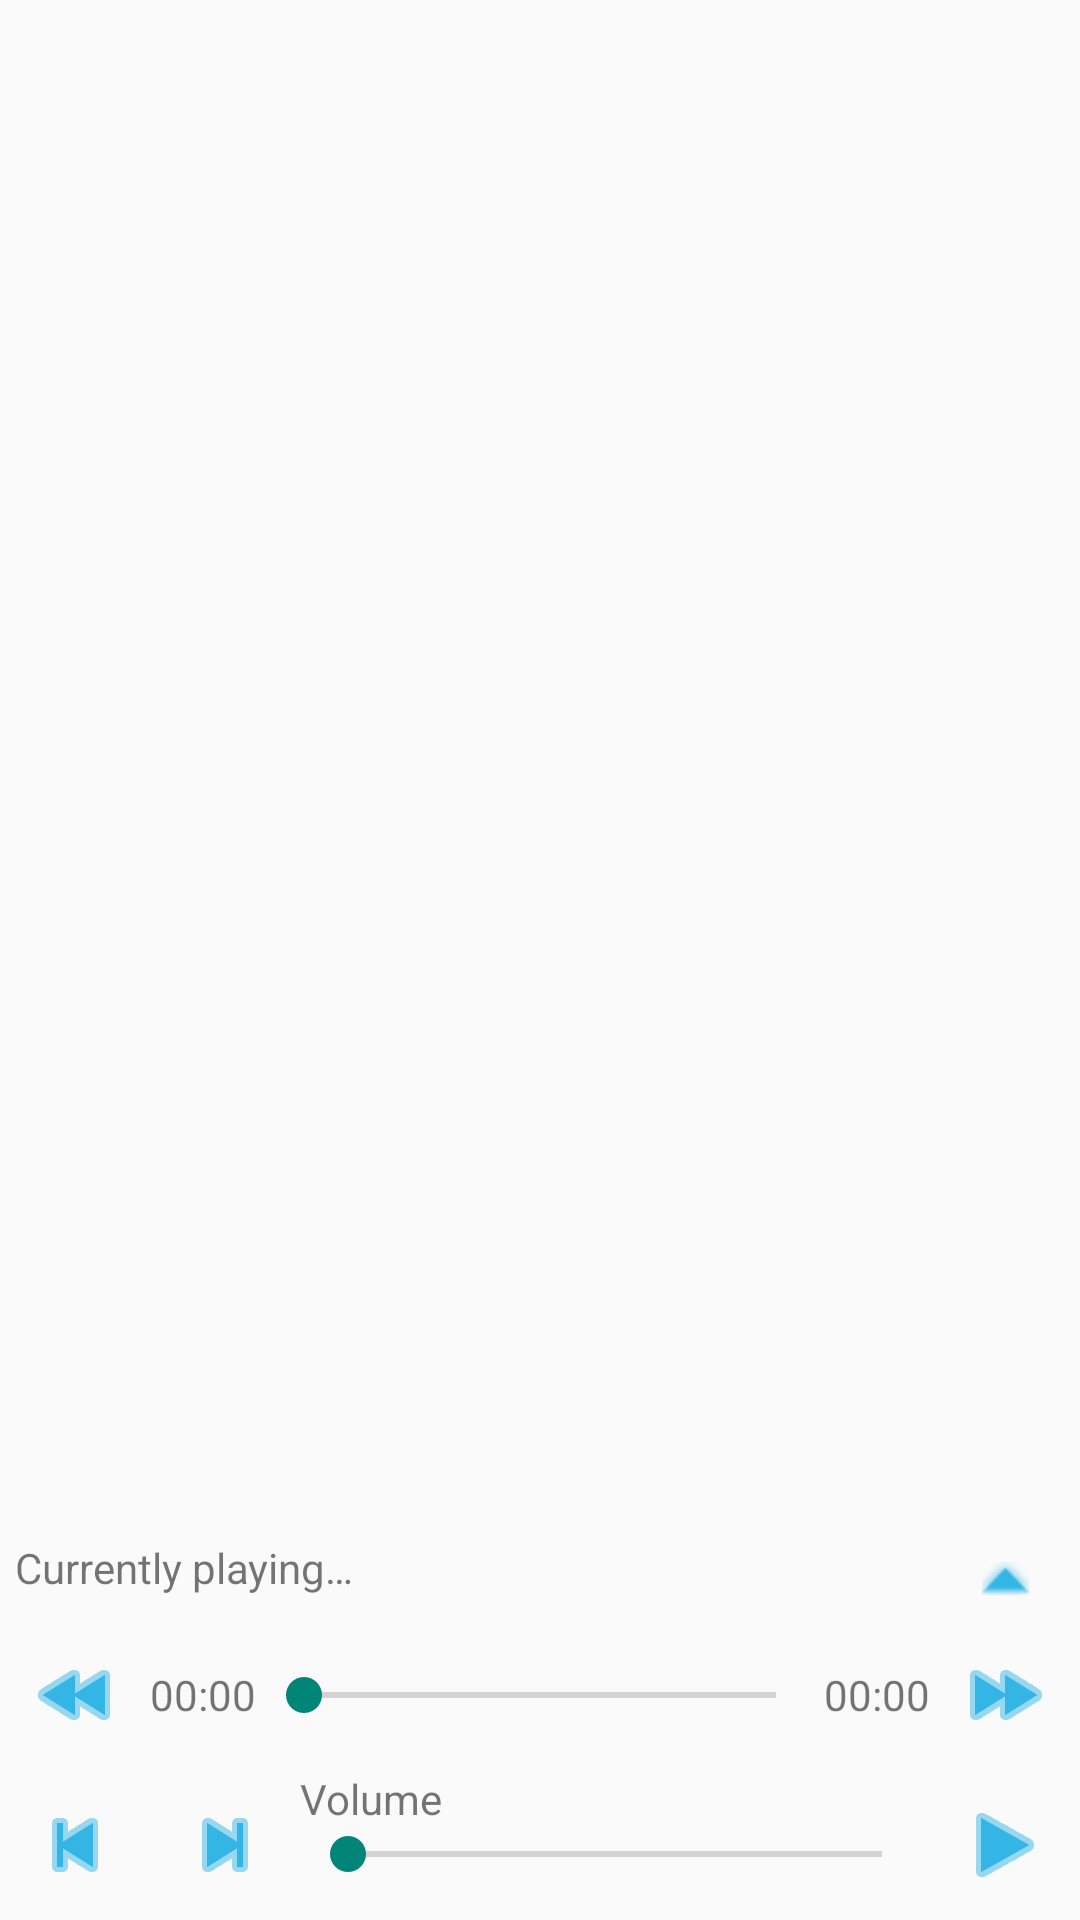

Icon click points for this 1080*1920 phone screenshot, format (x,y):
Jump 20 seconds forward: (1006,1695)
Jump 25 seconds back: (74,1695)
Play next: (225,1845)
Play previous: (75,1845)
Play/Pause: (1005,1845)
See more options: (1005,1579)
